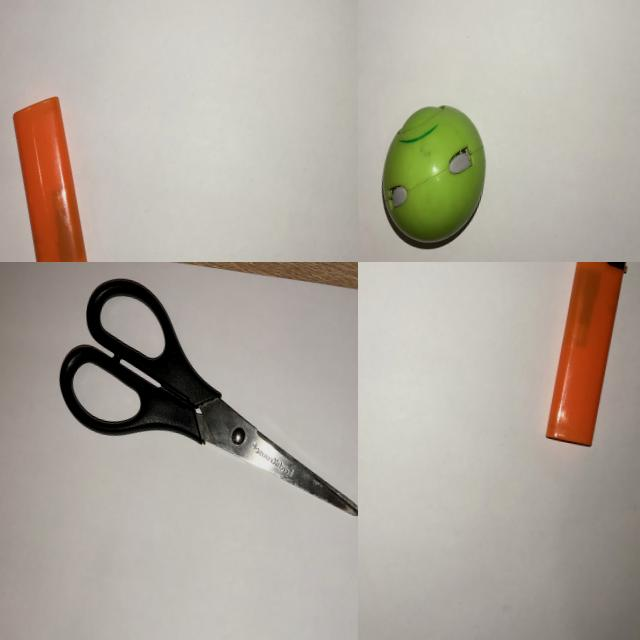lighter: (0, 84, 126, 262), (536, 262, 640, 459)
scissors: (43, 263, 358, 526)
toy: (366, 86, 503, 262)
